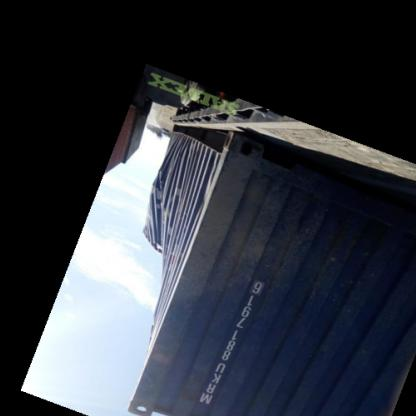Damage: (145, 172, 171, 256), (188, 162, 218, 220)
